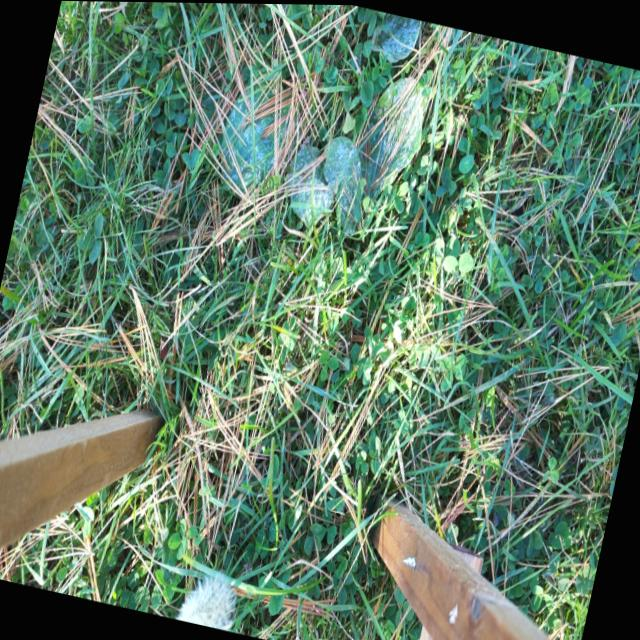flower: (176, 566, 242, 631)
